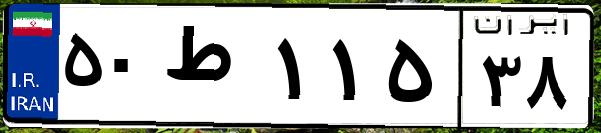0: (110, 28, 158, 98)
1: (270, 28, 330, 110), (330, 28, 385, 110)
3: (475, 38, 525, 113)
5: (385, 28, 445, 110), (57, 26, 110, 100)
8: (525, 38, 570, 115)
ط: (158, 20, 270, 120)
